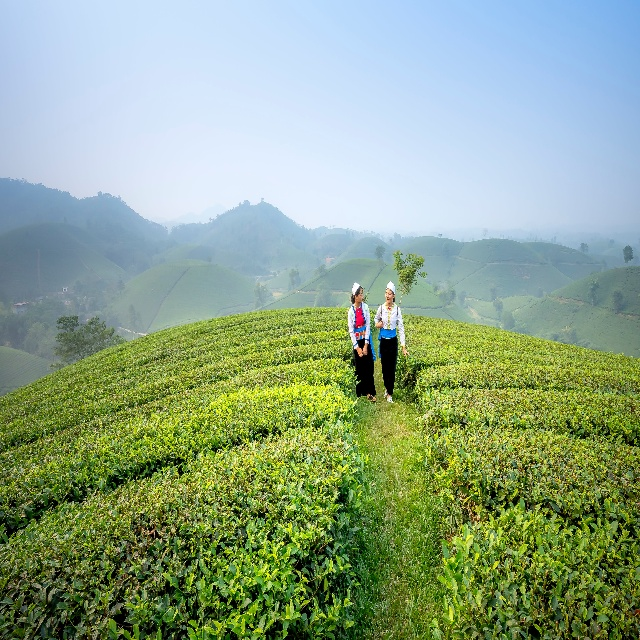Sin_guantes: (403, 347, 410, 358), (363, 343, 368, 355), (357, 347, 363, 357), (377, 320, 383, 329)
